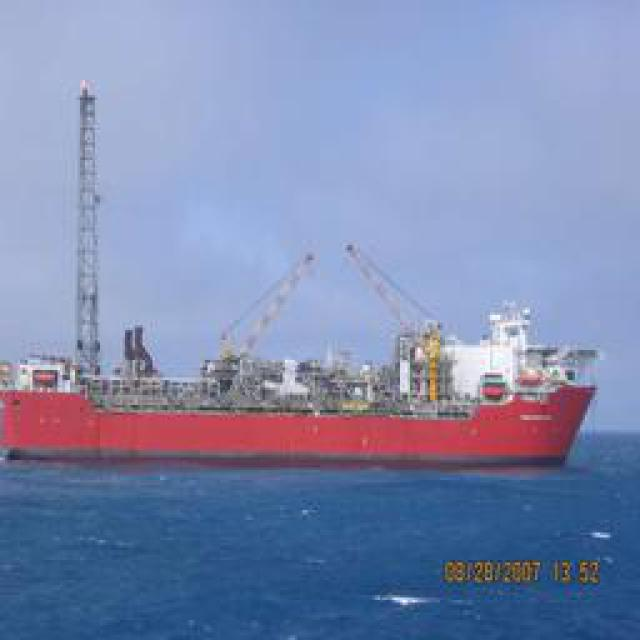Ship: (1, 316, 599, 469)
